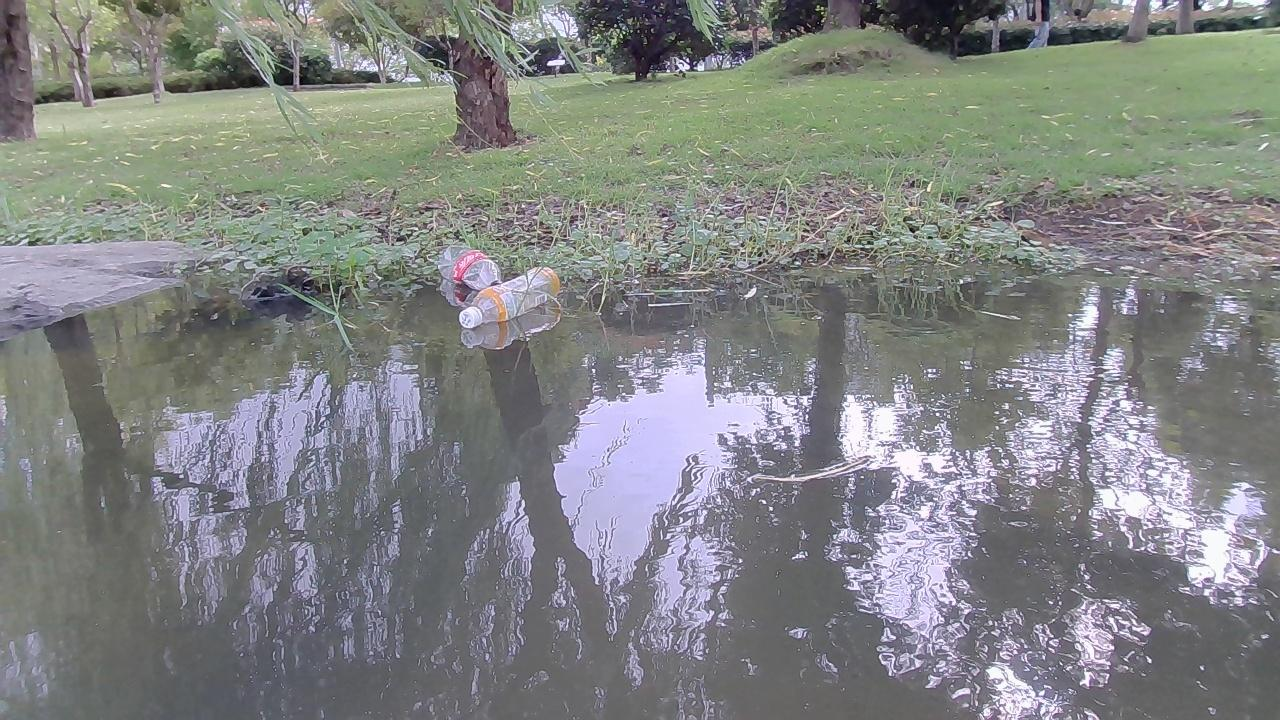bottle: (457, 266, 556, 334), (441, 239, 516, 294)
